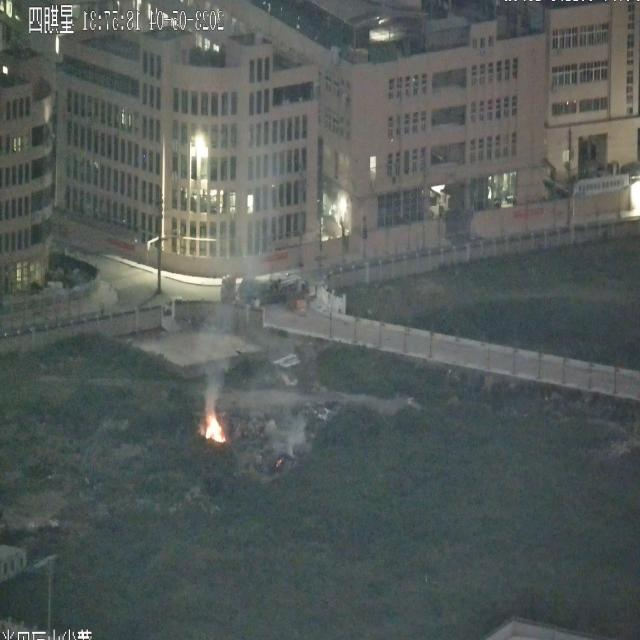Fire: (202, 411, 224, 446)
Smoke: (276, 413, 308, 457), (202, 355, 228, 407)
